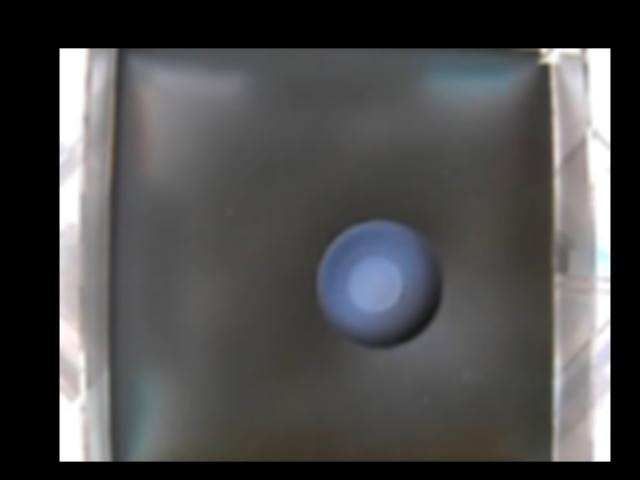Cup: (314, 218, 440, 348)
